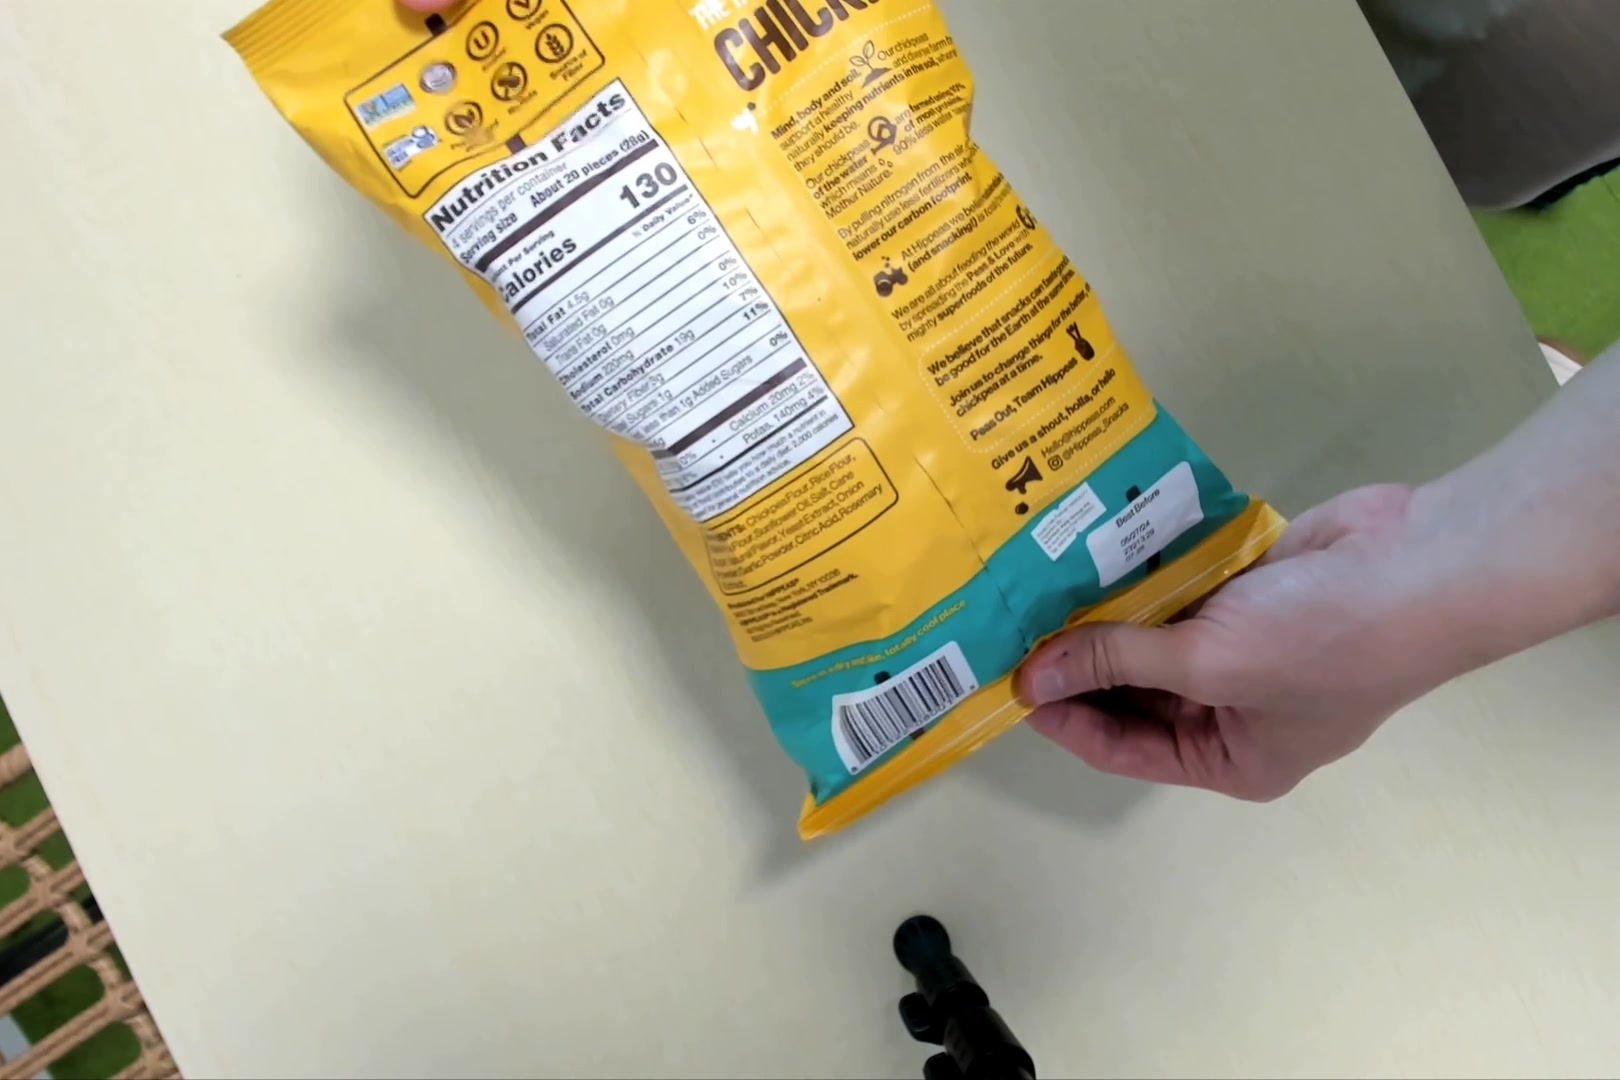PotatoChipsKeropok_100-199g_NonHalal_NonHealthy: (265, 7, 1279, 853)
